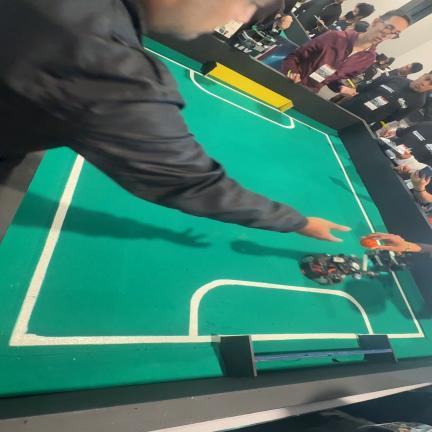cancha: (0, 38, 432, 396), (258, 355, 362, 377)
limites: (10, 155, 374, 346), (149, 50, 308, 129), (310, 126, 374, 231), (207, 78, 277, 111), (390, 273, 425, 339), (252, 333, 357, 341)
pelota: (360, 239, 377, 248)
porteria: (201, 62, 293, 113), (219, 335, 293, 377), (310, 351, 345, 357)
robot: (299, 245, 412, 286), (238, 17, 279, 52)
